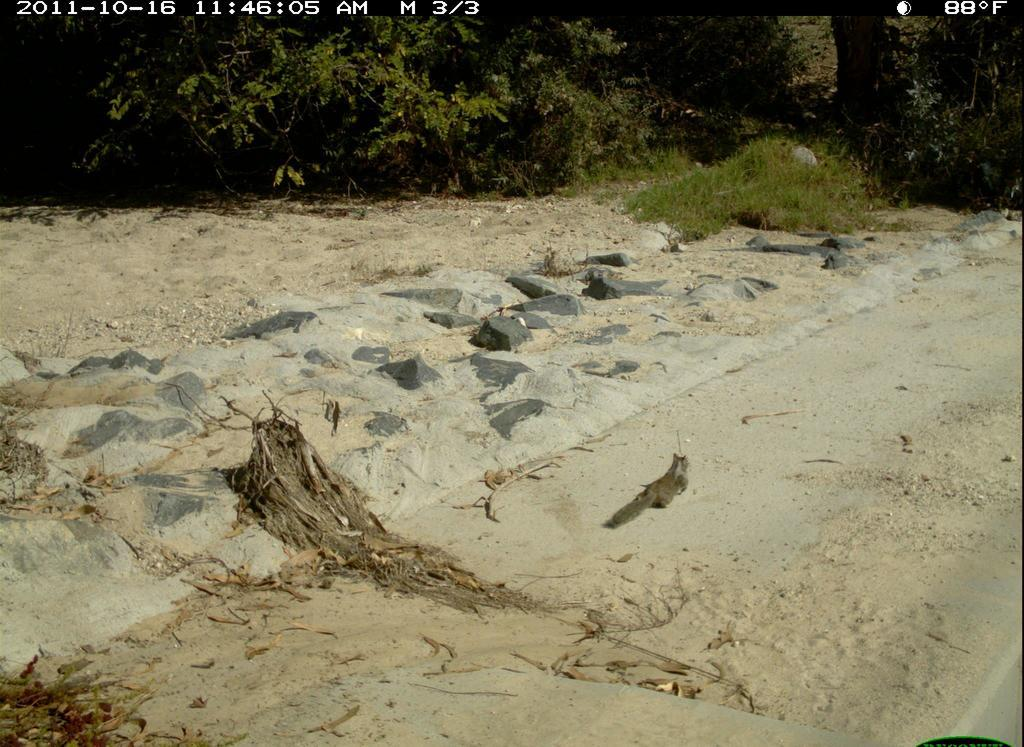squirrel: (605, 446, 699, 534)
